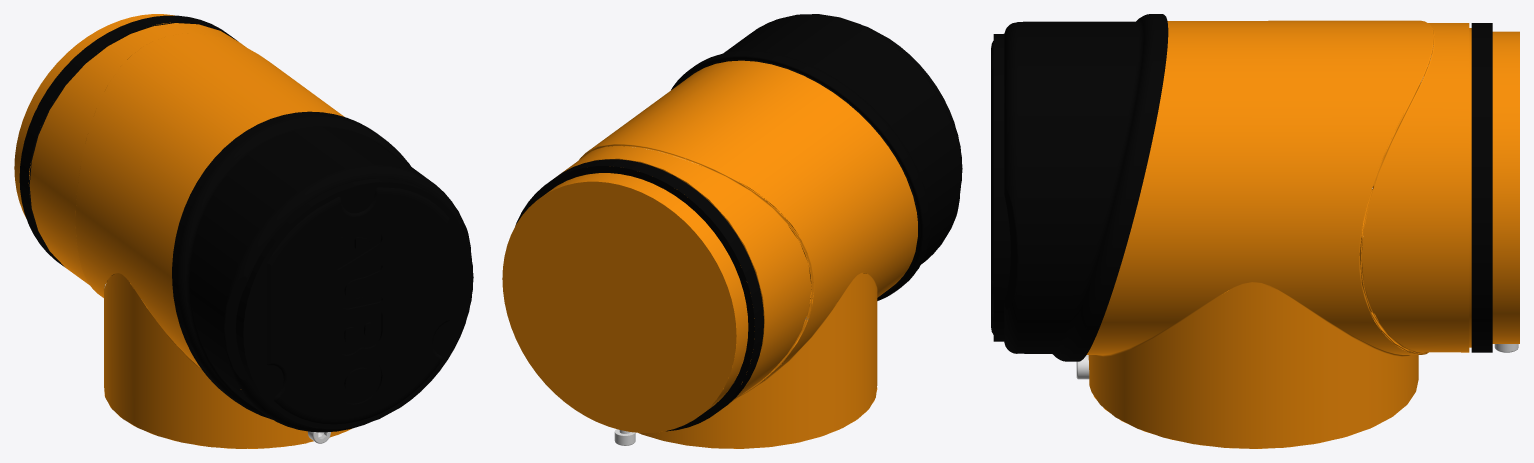
Rendered from wrist1_Link.DAE.
3 renders of one model, left to right at view 1: azimuth 30°, elevation 25°; view 2: azimuth 150°, elevation 25°; view 3: azimuth 270°, elevation 25°, orthographic. The views are drawn at different scales.
Parts seen in each view (by area): view 1: NONE-DC_Shell_ncl1_3, NONE-DC_Shell, NONE-DC_Shell_ncl1_2, NONE-DC_Shell_ncl1_1; view 2: NONE-DC_Shell, NONE-DC_Shell_ncl1_1, NONE-DC_Shell_ncl1_3, NONE-DC_Shell_ncl1_2; view 3: NONE-DC_Shell, NONE-DC_Shell_ncl1_3, NONE-DC_Shell_ncl1_1, NONE-DC_Shell_ncl1_2.
Boxes of the visible parts, x1,y1,x2,y2 form: NONE-DC_Shell_ncl1_3: (172, 111, 473, 432); NONE-DC_Shell: (29, 23, 351, 448); NONE-DC_Shell_ncl1_2: (19, 15, 238, 275); NONE-DC_Shell_ncl1_1: (14, 14, 174, 218); NONE-DC_Shell: (559, 60, 917, 448); NONE-DC_Shell_ncl1_1: (502, 173, 748, 432); NONE-DC_Shell_ncl1_3: (671, 14, 962, 300); NONE-DC_Shell_ncl1_2: (515, 159, 763, 431); NONE-DC_Shell: (1087, 20, 1471, 448); NONE-DC_Shell_ncl1_3: (991, 14, 1168, 361); NONE-DC_Shell_ncl1_1: (1492, 31, 1519, 343); NONE-DC_Shell_ncl1_2: (1471, 23, 1492, 352).
Size of the model in its own units: 0.079 by 0.1202 by 0.0875.
